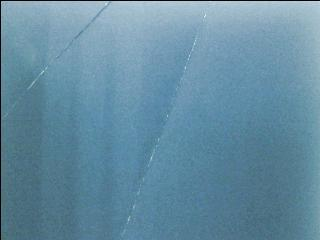crack: (120, 0, 212, 240), (0, 0, 110, 122)
